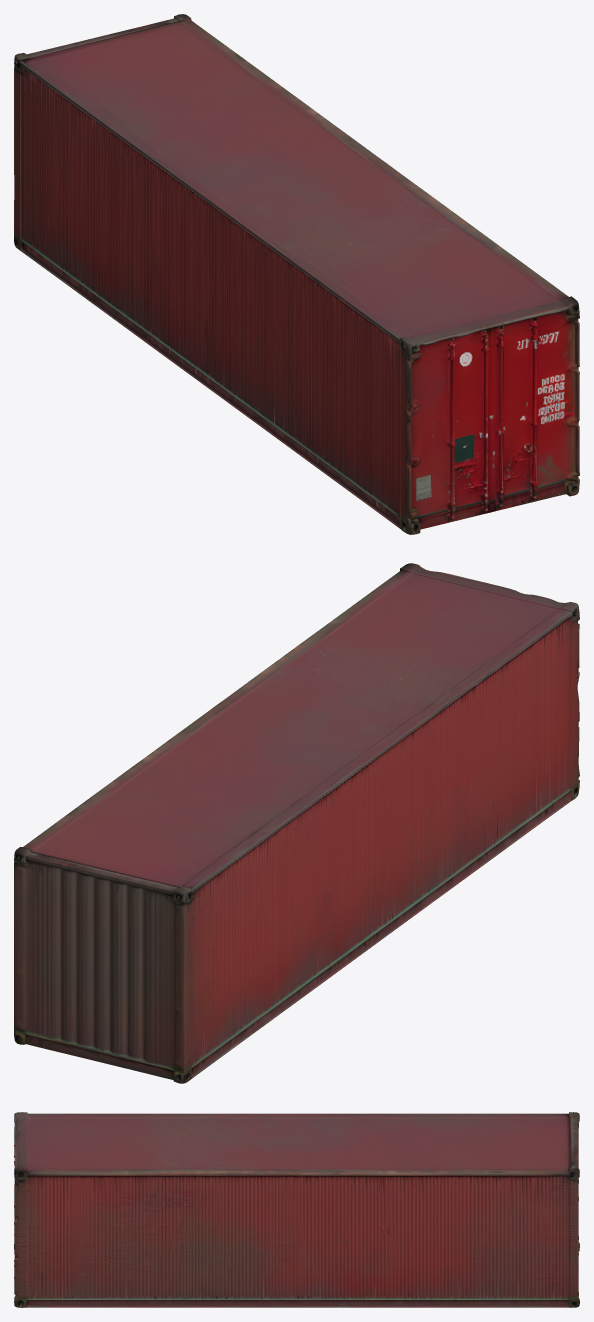
File: container-red-1.glb
3 renders of one model, top to bottom at view 1: azimuth 30°, elevation 25°; view 2: azimuth 150°, elevation 25°; view 3: azimuth 270°, elevation 25°, orthographic. The views are drawn at different scales.
Visible parts, largest first — view 1: node_0; view 2: node_0; view 3: node_0.
Part boxes in pixels (left/top/right/bottom): node_0: left=14, top=14, right=579, bottom=534; node_0: left=14, top=563, right=579, bottom=1083; node_0: left=14, top=1112, right=579, bottom=1307.
Bounding box in the file's own units: 0.2836 × 0.303 × 1.13.
Materials: 1 (1 with a texture image).
